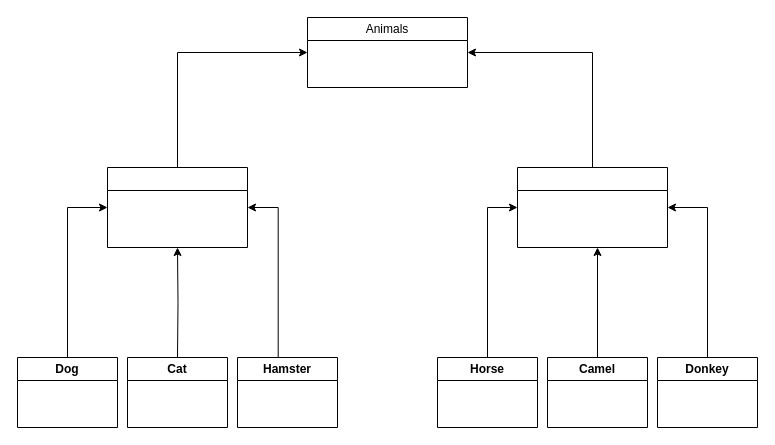
Image size: 775x445. Some labels were removed from this diagram. Each missing label, with the box of its shape:
homeAnimals: (106, 166, 248, 248)
packedAnimals: (516, 166, 668, 248)
